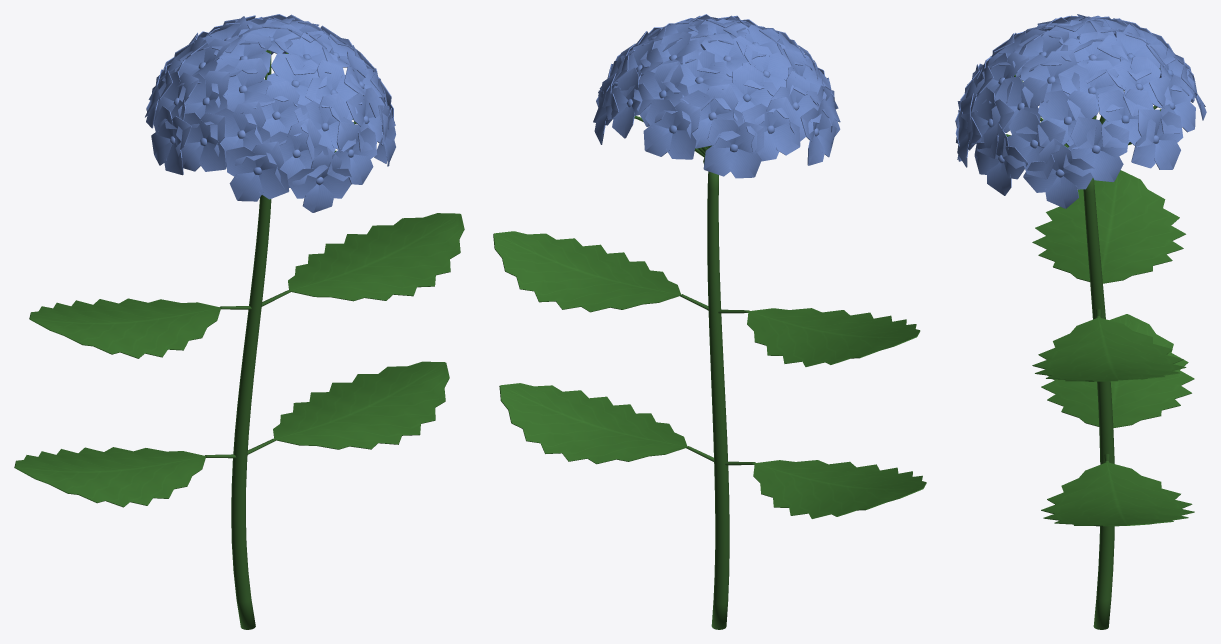
File: ortensia.glb
The picture shows the model from 3 angles, left to right: view 1: azimuth 30°, elevation 25°; view 2: azimuth 150°, elevation 25°; view 3: azimuth 270°, elevation 25°; orthographic projection. The views are drawn at different scales.
Visible parts, largest first — view 1: Hydrangea opposite broad leaf 1 1, Hydrangea opposite broad leaf 0 1, Hydrangea opposite broad leaf 0 -1, Hydrangea opposite broad leaf 1 -1, Cut stem, Hydrangea Floret 8 enlarged sepal 4, Hydrangea Floret 8 enlarged sepal 1, Hydrangea Floret 21 enlarged sepal 1, Hydrangea Floret 29 enlarged sepal 2, Hydrangea Floret 8 enlarged sepal 3, Hydrangea Floret 34 enlarged sepal 4, Hydrangea Floret 16 enlarged sepal 3 (+4 smaller); view 2: Hydrangea opposite broad leaf 0 1, Hydrangea opposite broad leaf 1 1, Hydrangea opposite broad leaf 0 -1, Hydrangea opposite broad leaf 1 -1, Cut stem, Hydrangea Floret 7 enlarged sepal 4, Hydrangea Floret 2 enlarged sepal 3, Hydrangea Floret 10 enlarged sepal 4, Hydrangea Floret 2 enlarged sepal 2, Hydrangea Floret 7 enlarged sepal 1, Hydrangea Floret 15 enlarged sepal 3, Hydrangea Floret 2 enlarged sepal 4 (+5 smaller); view 3: Hydrangea opposite broad leaf 1 -1, Hydrangea opposite broad leaf 1 1, Hydrangea opposite broad leaf 0 1, Hydrangea opposite broad leaf 0 -1, Cut stem, Hydrangea Floret 9 enlarged sepal 2, Hydrangea Floret 1 enlarged sepal 1, Hydrangea Floret 22 enlarged sepal 3, Hydrangea Floret 17 enlarged sepal 1, Hydrangea Floret 4 enlarged sepal 4, Hydrangea Floret 9 enlarged sepal 4, Hydrangea Floret 30 enlarged sepal 3 (+41 smaller).
Part boxes in pixels (bbox=[...]): Hydrangea opposite broad leaf 1 1: bbox=[288, 213, 464, 301]; Hydrangea opposite broad leaf 0 1: bbox=[273, 361, 449, 449]; Hydrangea opposite broad leaf 0 -1: bbox=[14, 447, 205, 507]; Hydrangea opposite broad leaf 1 -1: bbox=[29, 298, 220, 358]; Cut stem: bbox=[231, 195, 271, 629]; Hydrangea Floret 8 enlarged sepal 4: bbox=[229, 172, 263, 201]; Hydrangea Floret 8 enlarged sepal 1: bbox=[258, 167, 289, 199]; Hydrangea Floret 21 enlarged sepal 1: bbox=[232, 101, 265, 132]; Hydrangea Floret 29 enlarged sepal 2: bbox=[265, 80, 299, 113]; Hydrangea Floret 8 enlarged sepal 3: bbox=[226, 146, 256, 178]; Hydrangea Floret 34 enlarged sepal 4: bbox=[234, 58, 267, 87]; Hydrangea Floret 16 enlarged sepal 3: bbox=[287, 118, 321, 151]; Hydrangea opposite broad leaf 0 1: bbox=[499, 383, 687, 464]; Hydrangea opposite broad leaf 1 1: bbox=[493, 231, 680, 312]; Hydrangea opposite broad leaf 0 -1: bbox=[753, 460, 926, 518]; Hydrangea opposite broad leaf 1 -1: bbox=[747, 308, 920, 366]; Cut stem: bbox=[707, 171, 729, 629]; Hydrangea Floret 7 enlarged sepal 4: bbox=[643, 124, 672, 156]; Hydrangea Floret 2 enlarged sepal 3: bbox=[729, 149, 761, 178]; Hydrangea Floret 10 enlarged sepal 4: bbox=[772, 121, 800, 155]; Hydrangea Floret 2 enlarged sepal 2: bbox=[703, 144, 733, 176]; Hydrangea Floret 7 enlarged sepal 1: bbox=[666, 130, 696, 159]; Hydrangea Floret 15 enlarged sepal 3: bbox=[704, 84, 738, 115]; Hydrangea Floret 2 enlarged sepal 4: bbox=[734, 122, 764, 154]; Hydrangea opposite broad leaf 1 -1: bbox=[1032, 170, 1185, 283]; Hydrangea opposite broad leaf 1 1: bbox=[1032, 317, 1186, 381]; Hydrangea opposite broad leaf 0 1: bbox=[1041, 462, 1194, 526]; Hydrangea opposite broad leaf 0 -1: bbox=[1041, 314, 1194, 428]; Cut stem: bbox=[1083, 178, 1114, 629]; Hydrangea Floret 9 enlarged sepal 2: bbox=[1089, 150, 1123, 182]; Hydrangea Floret 1 enlarged sepal 1: bbox=[1045, 176, 1078, 208]; Hydrangea Floret 22 enlarged sepal 3: bbox=[1038, 90, 1070, 120]; Hydrangea Floret 17 enlarged sepal 1: bbox=[1098, 89, 1127, 121]; Hydrangea Floret 4 enlarged sepal 4: bbox=[1154, 140, 1180, 169]; Hydrangea Floret 9 enlarged sepal 4: bbox=[1070, 116, 1101, 148]; Hydrangea Floret 30 enlarged sepal 3: bbox=[1083, 60, 1118, 89].
Bounding box in the file's own units: 0.2566 × 0.3335 × 0.1257.
Materials: 3 (3 with a texture image).
